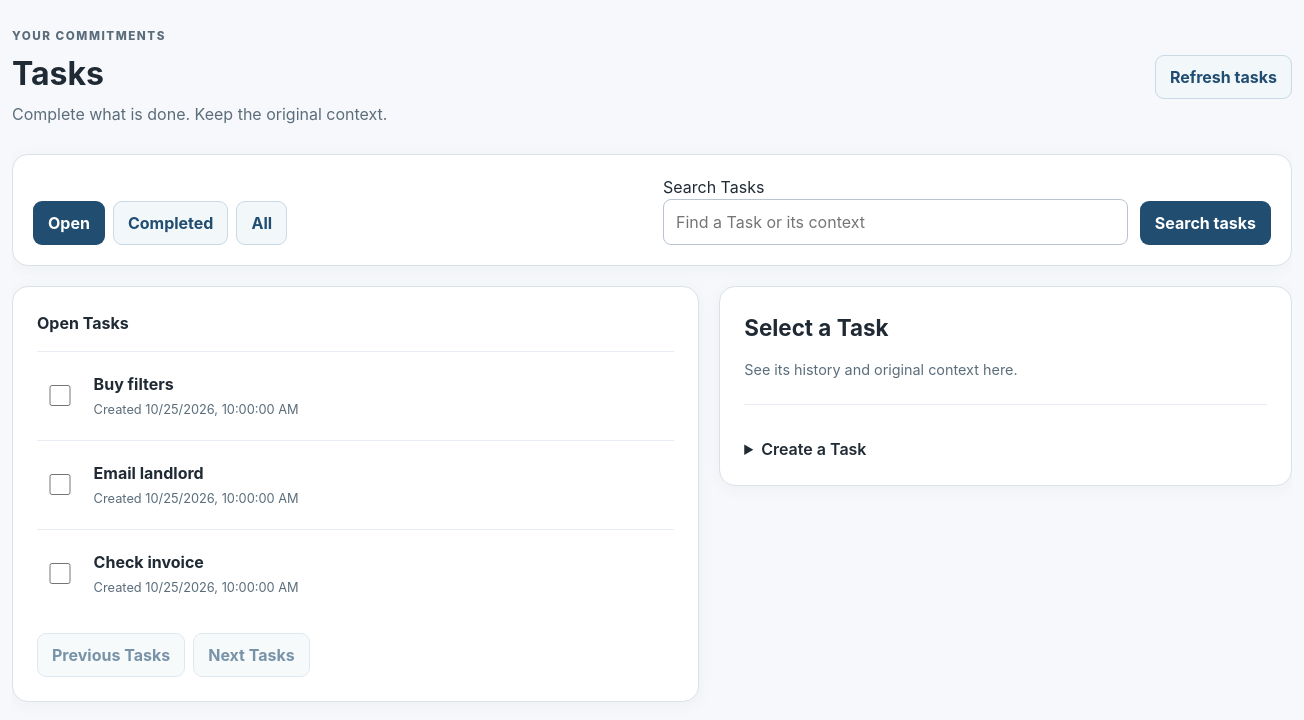
Scenario: shows an actionable safe failure for HTTP 401
The width and height of the screenshot is (1304, 720).
Click the button "Refresh tasks" at (1224, 77), box [1155, 55, 1292, 99]
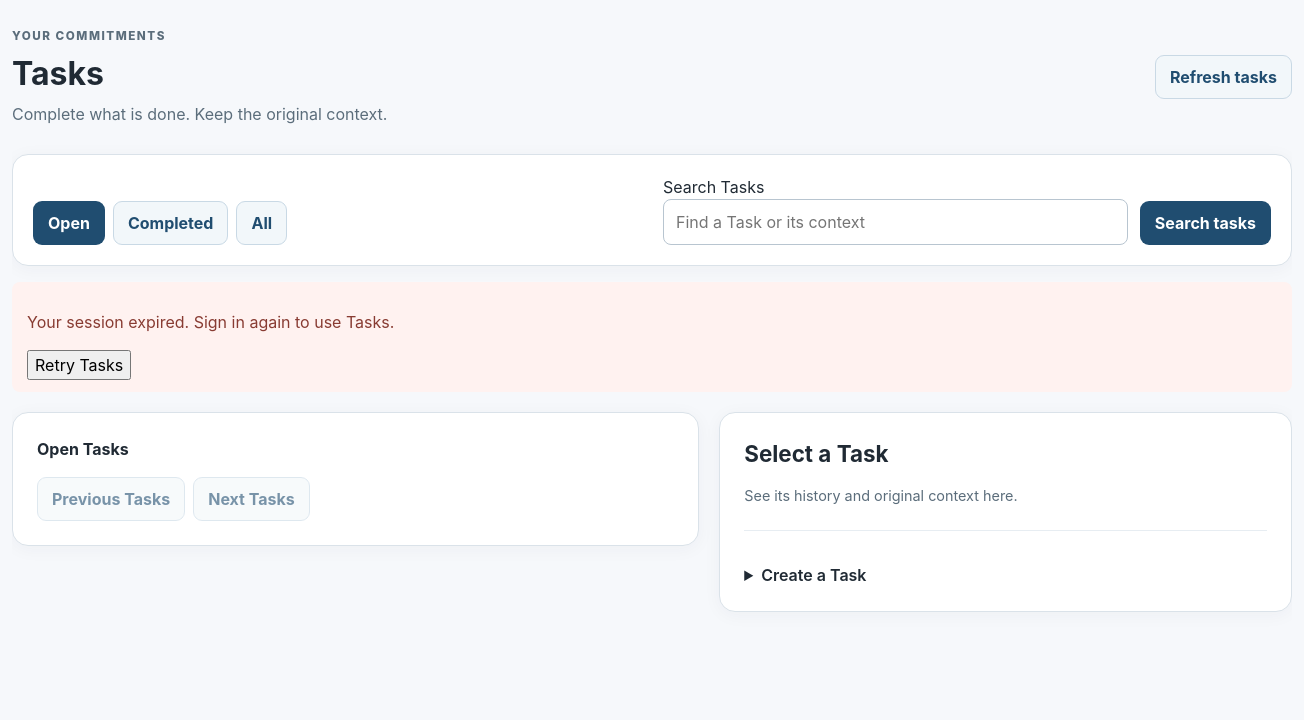
Expected: the text "Your session expired" is shown, [27, 312, 394, 332]
Expected: no checkboxes are shown
Expected: the button "Retry Tasks" is shown, [27, 350, 131, 380]
